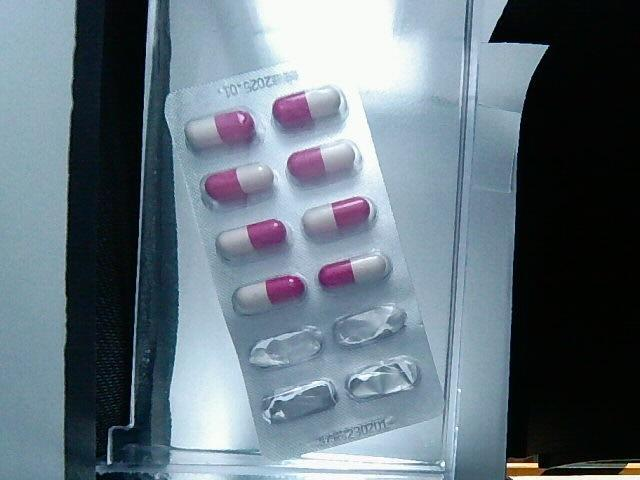Light Front: (162, 51, 447, 463)
No Pill Front: (263, 379, 338, 424), (346, 355, 418, 399), (334, 304, 406, 347), (249, 325, 322, 366)
Pill Front: (273, 85, 346, 128), (233, 275, 306, 315), (185, 110, 256, 150), (216, 219, 286, 257), (205, 164, 273, 201), (303, 198, 370, 234), (288, 143, 355, 178), (319, 254, 386, 288)
